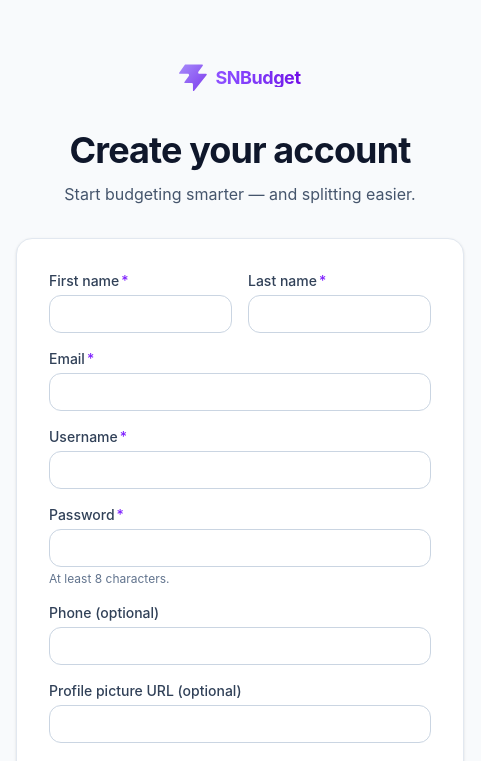
Scenario: SignUp page › rejects malformed email addresses
Step 1. Type "not-an-email" into the field labelled "Email*" → (240, 392), box [49,373,431,411]
(page scrolled)
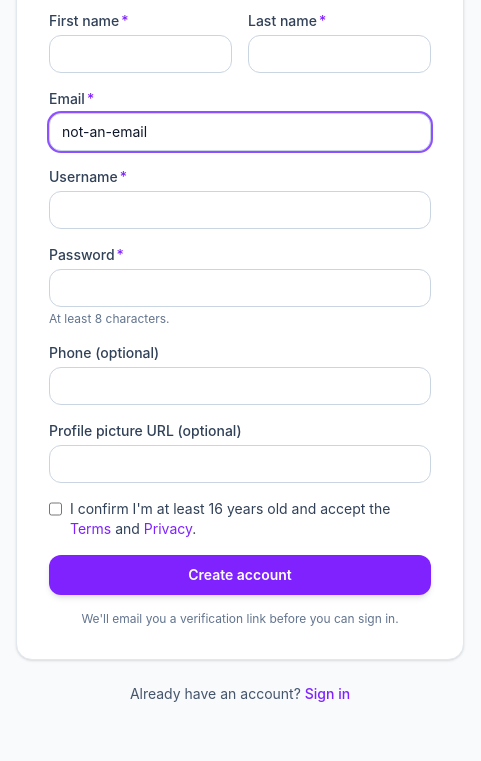
Step 2. Click the button "Create account" → click(240, 575), box [49,555,431,595]
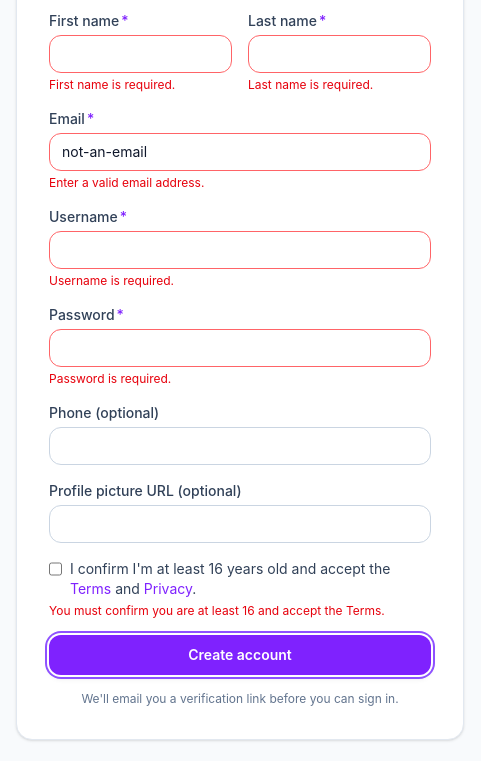
Expected: the text "Enter a valid email address." is shown, [49,175,204,190]
